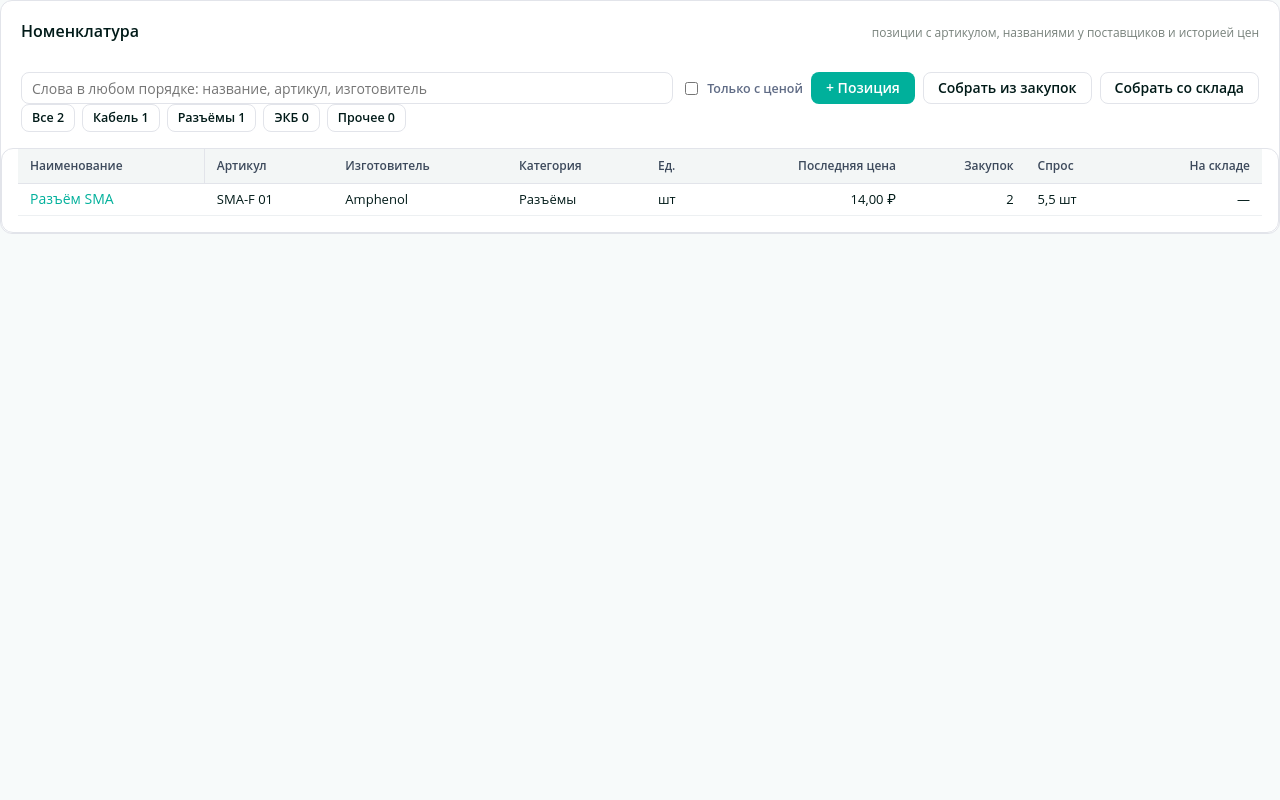
previews «Собрать из закупок» without writing, then applies
Expected: the table named "Номенклатура" is shown, x1=18 y1=149 x2=1262 y2=216
Click the button "Собрать из закупок": (1007, 88) x1=923 y1=72 x2=1092 y2=104
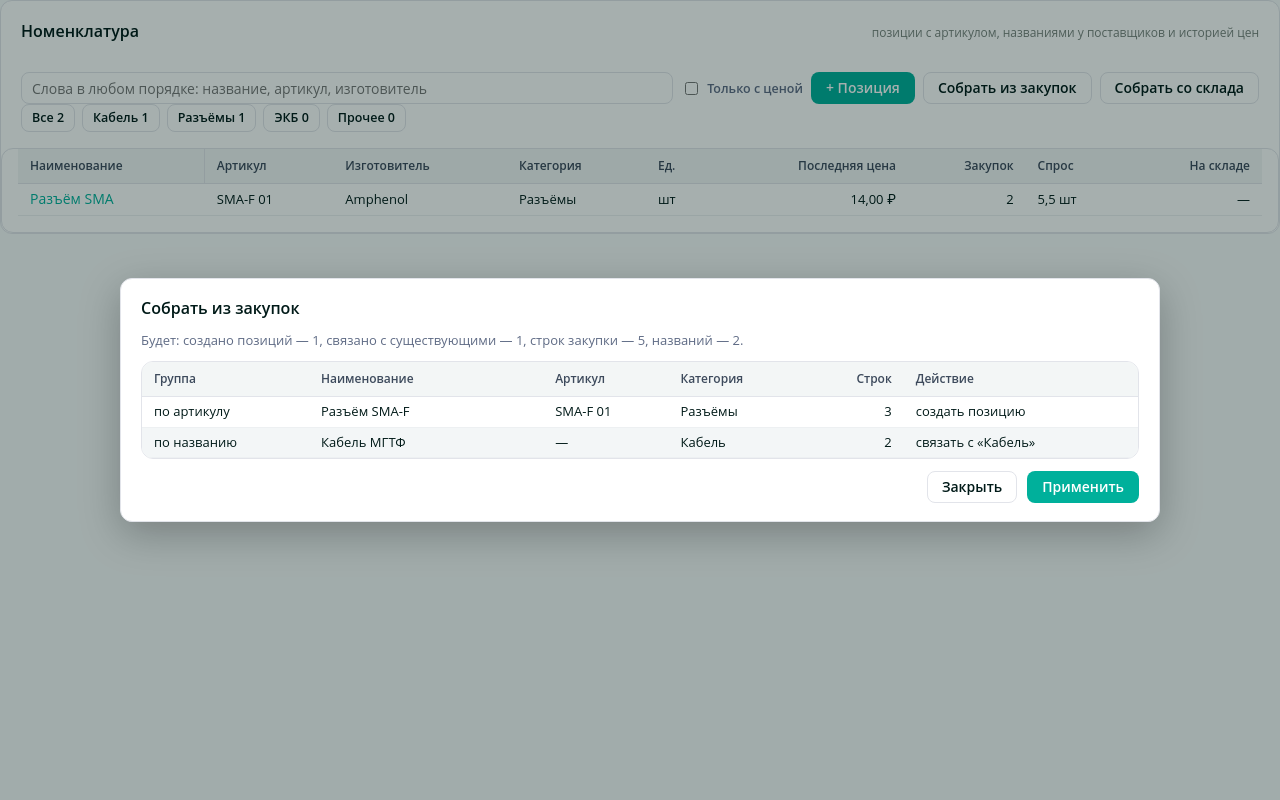
Result: the text "создано позиций — 1, связано с существующими — 1" is shown at x1=141 y1=331 x2=744 y2=349
Result: the text "создать позицию" is shown at x1=904 y1=396 x2=1138 y2=427
Result: the text "связать с «Кабель»" is shown at x1=904 y1=427 x2=1138 y2=458
Click the button "Применить": (1083, 487) x1=1027 y1=471 x2=1139 y2=503
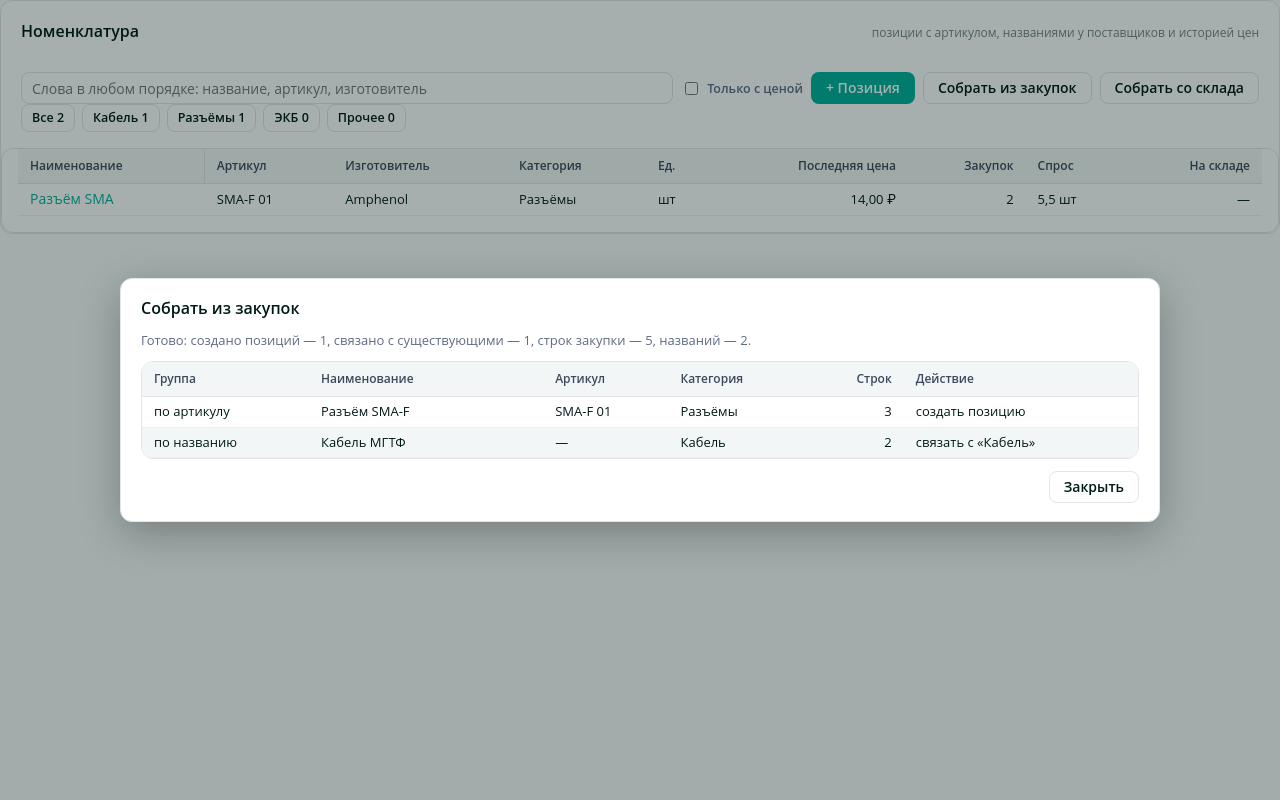
Result: the text "Готово:" is shown at x1=141 y1=331 x2=190 y2=349
